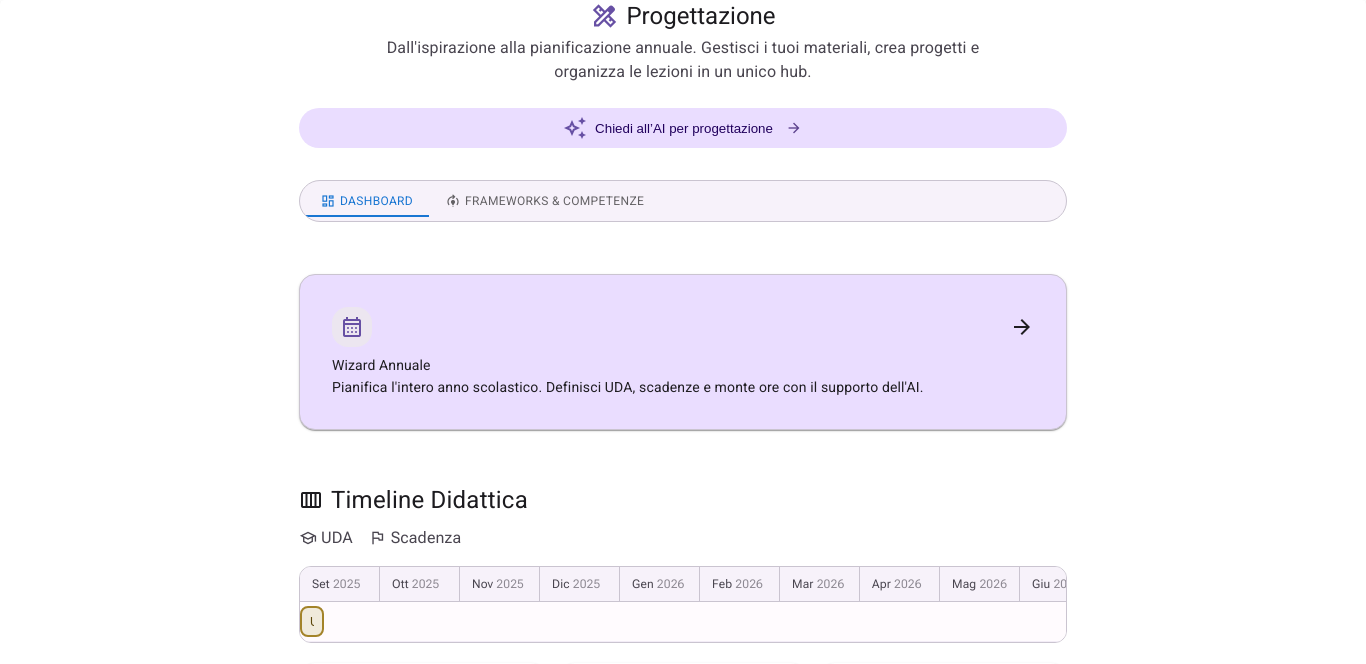
it: ProgettazioneHub Gantt integration › click on UDA bar opens UDA detail modal
Click the button "Unità 1" at point(312, 622), box [300,606,324,637]
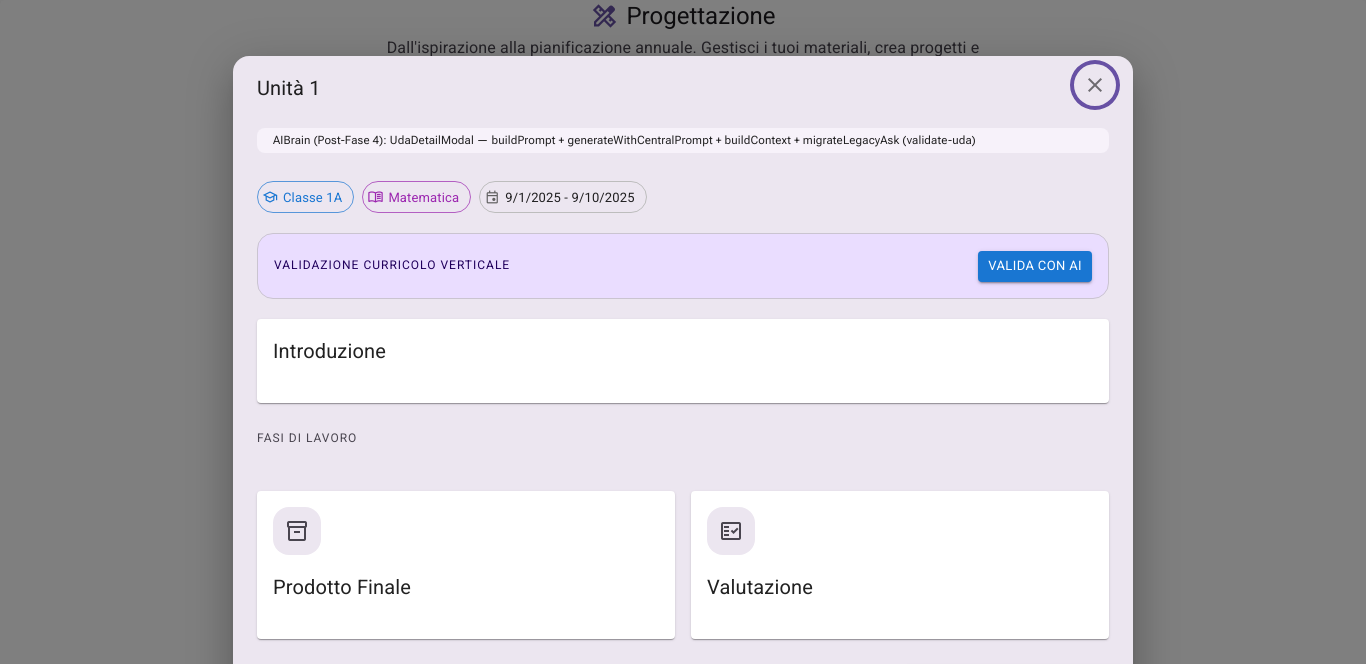
Check: the heading "Unità 1" is shown, box [257,68,1112,102]
